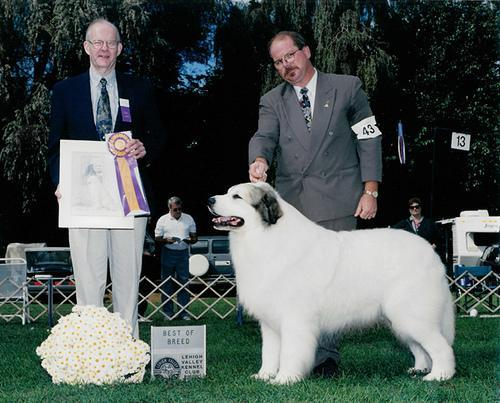Great_Pyrenees: (205, 181, 459, 383)
